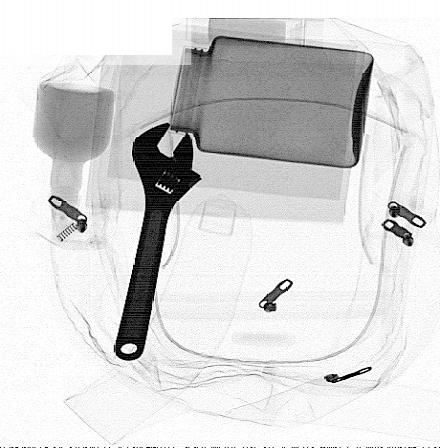Wrench: (112, 122, 205, 364)
